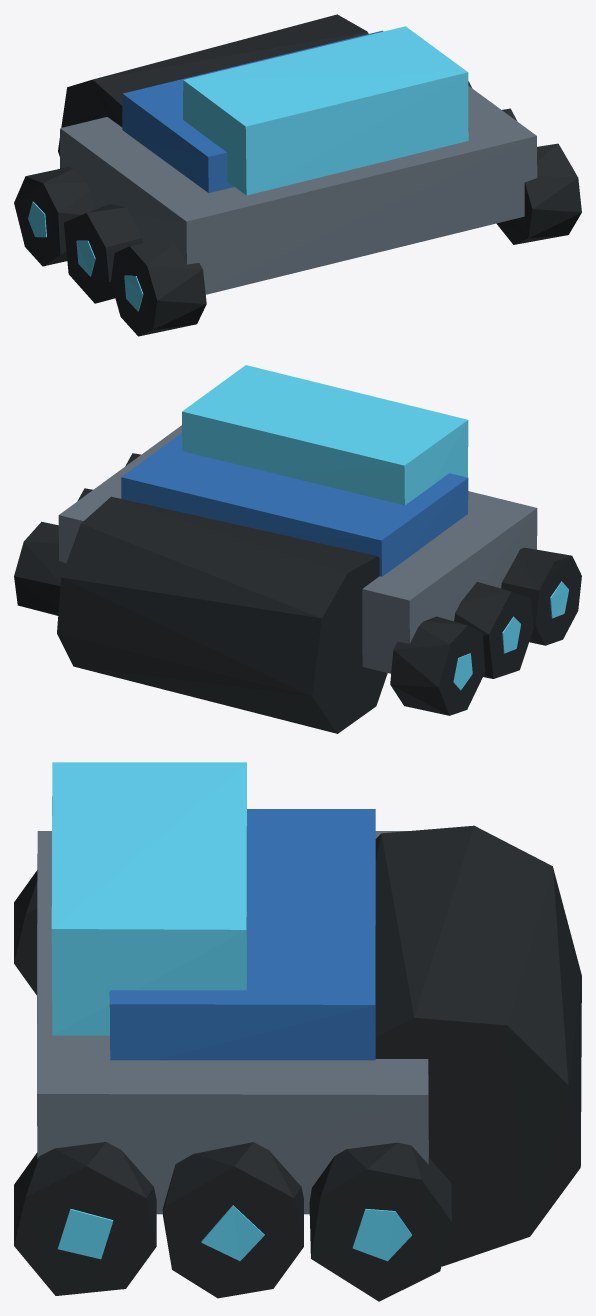
File: SM_Alliance_AL_PioneerHarvester_LOD3.fbx
The picture shows the model from 3 angles, top to bottom: view 1: azimuth 30°, elevation 25°; view 2: azimuth 150°, elevation 25°; view 3: azimuth 270°, elevation 25°; orthographic projection. The views are drawn at different scales.
Visible parts, largest first — view 1: LOD03_SM_Alliance_AL_PioneerHarvester; view 2: LOD03_SM_Alliance_AL_PioneerHarvester; view 3: LOD03_SM_Alliance_AL_PioneerHarvester.
Part boxes in pixels (box(x1,y1,x2,y2)): LOD03_SM_Alliance_AL_PioneerHarvester: box(14, 14, 581, 336); LOD03_SM_Alliance_AL_PioneerHarvester: box(14, 365, 581, 733); LOD03_SM_Alliance_AL_PioneerHarvester: box(14, 762, 581, 1301).
Size of the model in its own units: 541 by 404 by 255.
